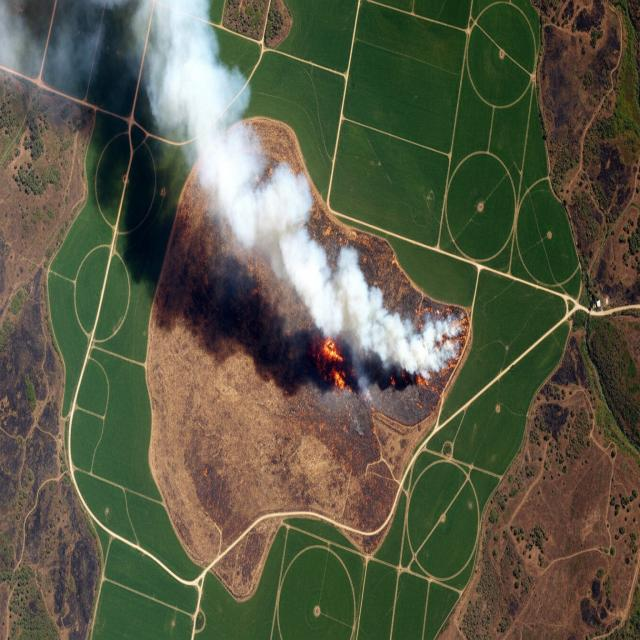wildfire: (307, 267, 473, 401)
